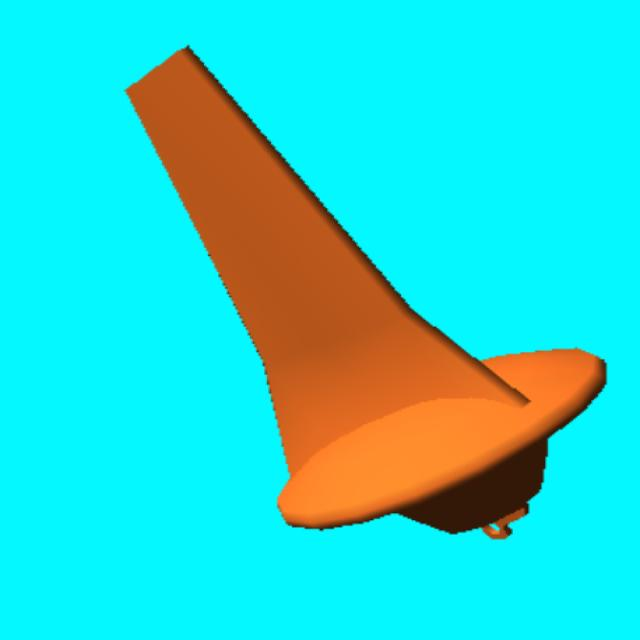OrangeBuoy: (127, 49, 604, 538)
